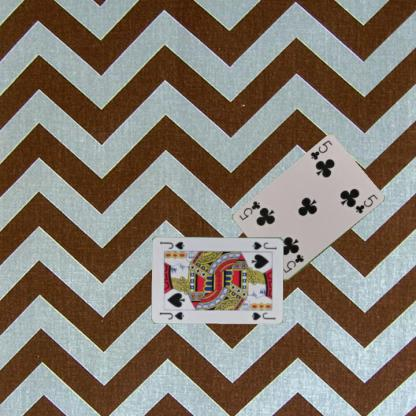5c: (308, 138, 333, 162), (280, 252, 305, 274)
Js: (250, 238, 278, 250), (157, 309, 185, 321)
